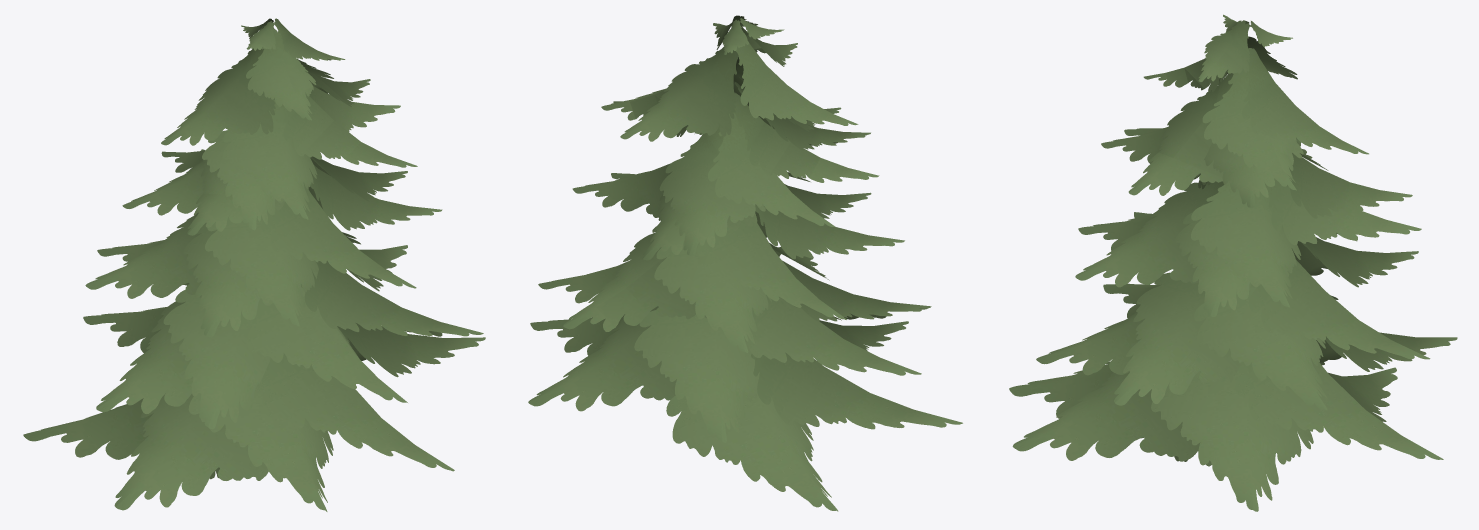
The model's file is Pine_1.gltf.
3 views of the same model, side by side, from view 1: azimuth 30°, elevation 25°; view 2: azimuth 150°, elevation 25°; view 3: azimuth 270°, elevation 25° (orthographic). The views are drawn at different scales.
Parts seen in each view (by area): view 1: Pine_1; view 2: Pine_1; view 3: Pine_1.
Boxes of the visible parts, <box> form: Pine_1: <box>23,18,485,511</box>; Pine_1: <box>528,15,962,511</box>; Pine_1: <box>1009,14,1457,511</box>.
Size of the model in its own units: 4.94 by 4.92 by 4.54.
1 material, 1 textured.
